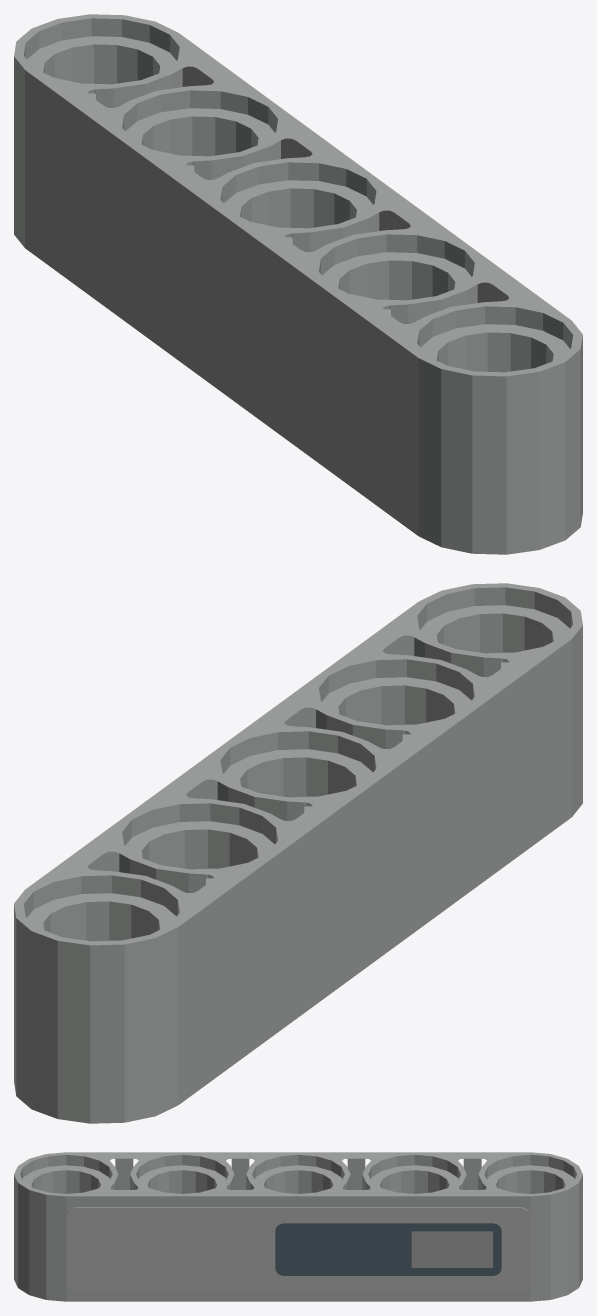
3 views of the same model, one above another, from view 1: azimuth 30°, elevation 25°; view 2: azimuth 150°, elevation 25°; view 3: azimuth 270°, elevation 25° (orthographic). The views are drawn at different scales.
Parts seen in each view (by area): view 1: world; view 2: world; view 3: world.
Boxes of the visible parts, box(x1,y1,x2,y2) form: world: box(14, 14, 582, 554); world: box(14, 583, 582, 1123); world: box(14, 1152, 582, 1301).
Size of the model in its own units: 0.0073 by 0.008 by 0.0392.
